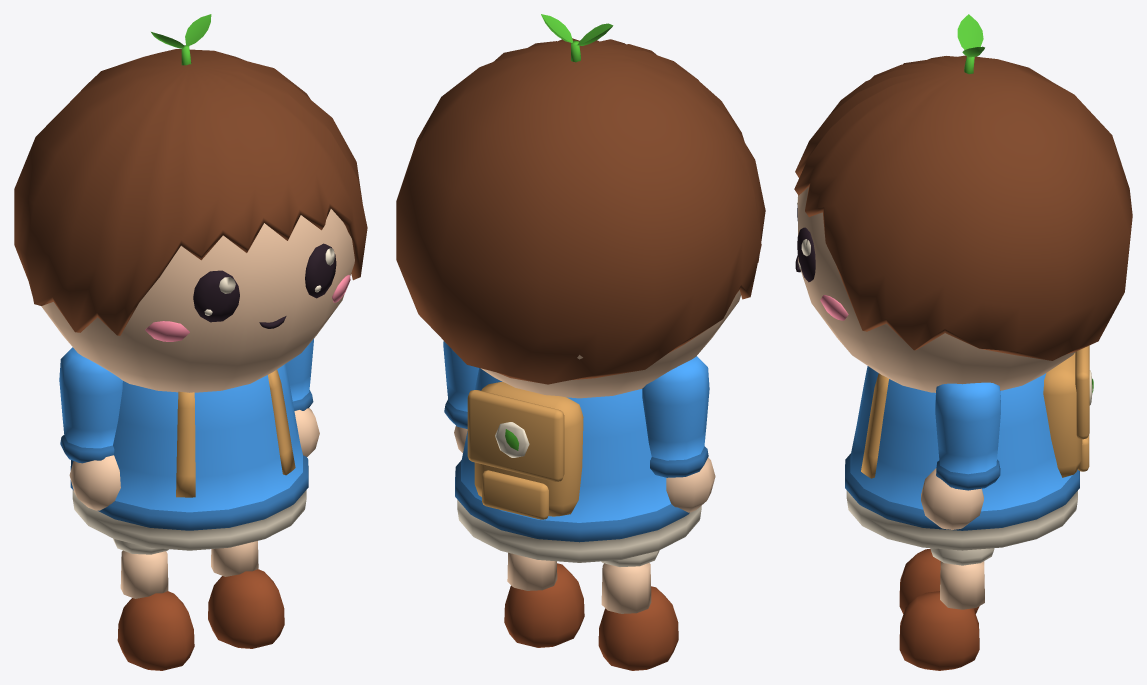
Rendered from hero.glb.
3 views of the same model, side by side, from view 1: azimuth 30°, elevation 25°; view 2: azimuth 150°, elevation 25°; view 3: azimuth 270°, elevation 25° (orthographic). The views are drawn at different scales.
Visible parts, largest first — view 1: head, body, arm-left, leg-left, leg-right, arm-right, head-leaf; view 2: head, body, arm-left, leg-left, leg-right, arm-right, head-leaf; view 3: head, body, arm-right, leg-right, leg-left, head-leaf.
Part boxes in pixels (box(x1,y1,x2,y2)): head: box(14, 49, 367, 392); body: box(70, 364, 308, 550); arm-left: box(59, 347, 122, 510); leg-left: box(113, 538, 194, 670); leg-right: box(208, 541, 284, 648); arm-right: box(285, 339, 319, 456); head-leaf: box(151, 14, 211, 65); head: box(396, 38, 765, 398); body: box(455, 368, 701, 562); arm-left: box(642, 356, 715, 512); leg-left: box(598, 550, 678, 670); leg-right: box(504, 552, 584, 647); arm-right: box(443, 341, 478, 452); head-leaf: box(541, 14, 613, 62); head: box(794, 55, 1132, 392); body: box(845, 345, 1093, 550); arm-right: box(921, 382, 1000, 529); leg-right: box(899, 548, 994, 670); leg-left: box(899, 548, 979, 613); head-leaf: box(957, 14, 984, 74).
Size of the model in its own units: 1.23 by 2.35 by 1.18.
